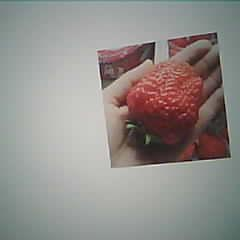straw-ripe: (127, 62, 203, 142)
